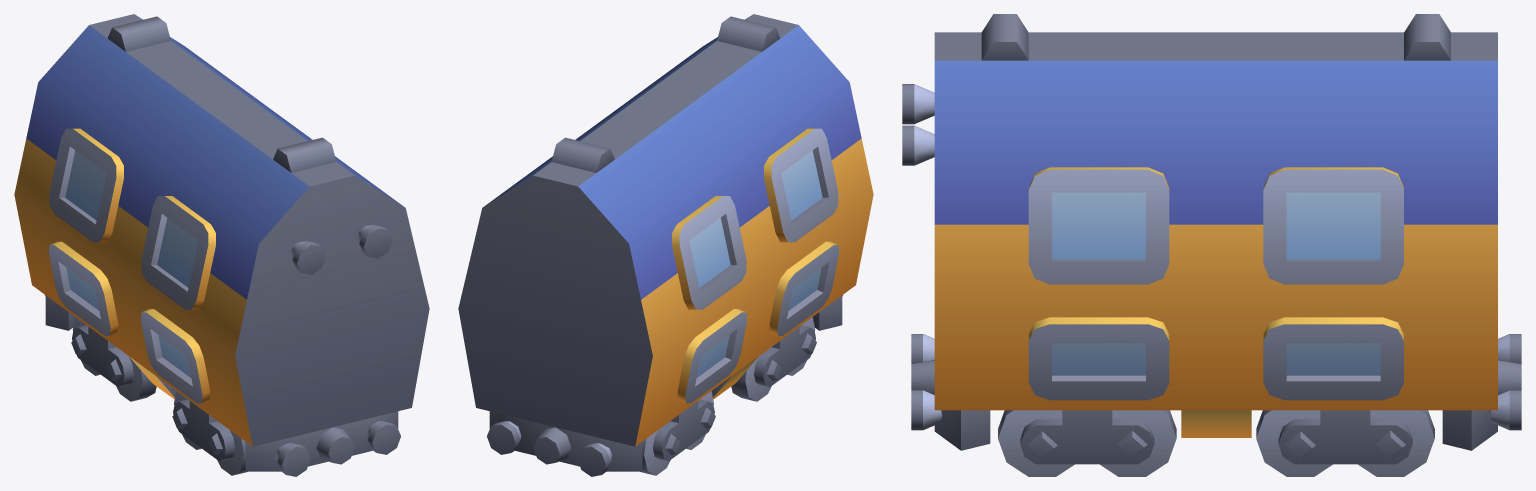
The model's file is train-doubleB.glb.
3 renders of one model, left to right at view 1: azimuth 30°, elevation 25°; view 2: azimuth 150°, elevation 25°; view 3: azimuth 270°, elevation 25°, orthographic. The views are drawn at different scales.
Visible parts, largest first — view 1: train-electric-double-b; view 2: train-electric-double-b; view 3: train-electric-double-b.
Boxes of the visible parts, <box> form: train-electric-double-b: <box>14,14,429,476</box>; train-electric-double-b: <box>458,14,873,476</box>; train-electric-double-b: <box>902,14,1521,476</box>.
Bounding box in the file's own units: 1.29 × 1.92 × 2.64.
1 material, 1 textured.
